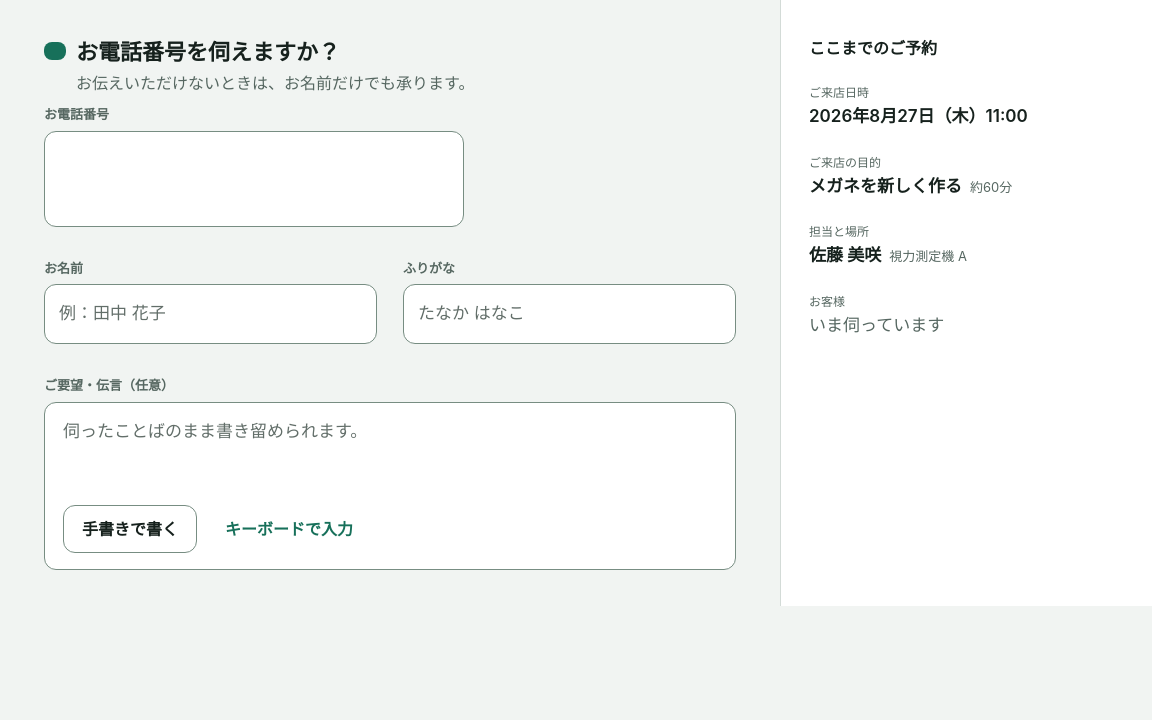
Test case: 手書き › 「手書きのまま残す」で、文字に変換しないままご要望が残る
The image size is (1152, 720).
Click the button "手書きで書く" at (130, 528), box [63,504,197,552]
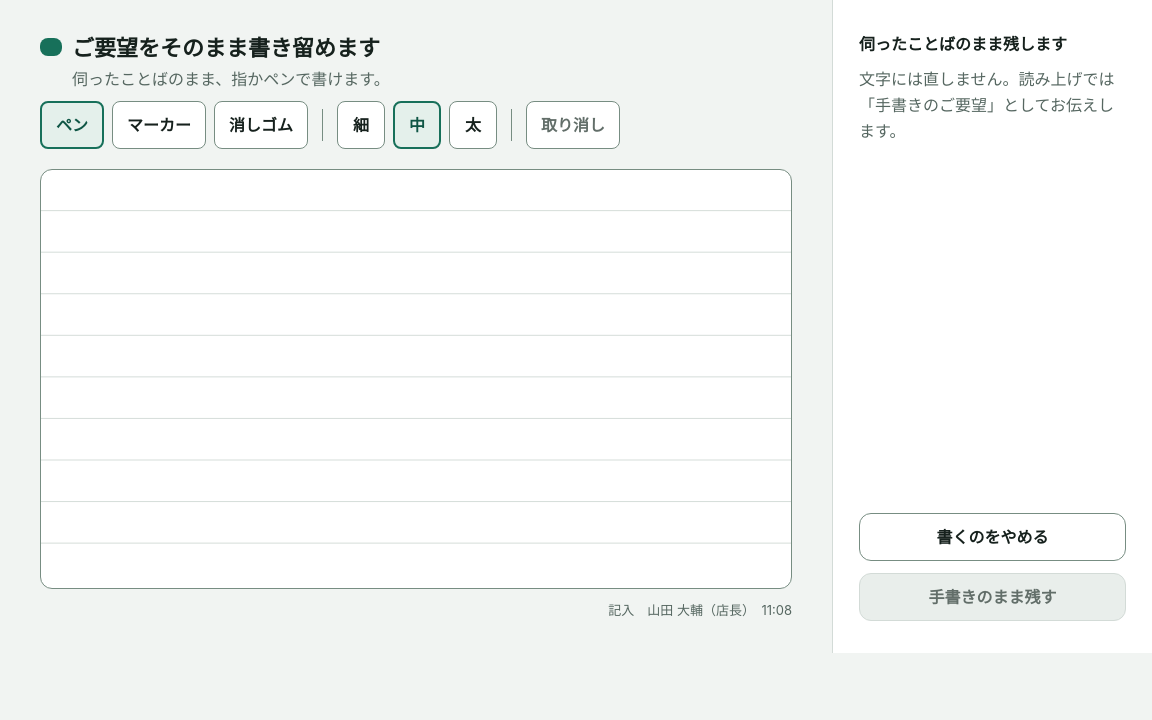
Press the mouse on the picture with test id "handwriting-paper" at (416, 379), box [40,169,792,589]
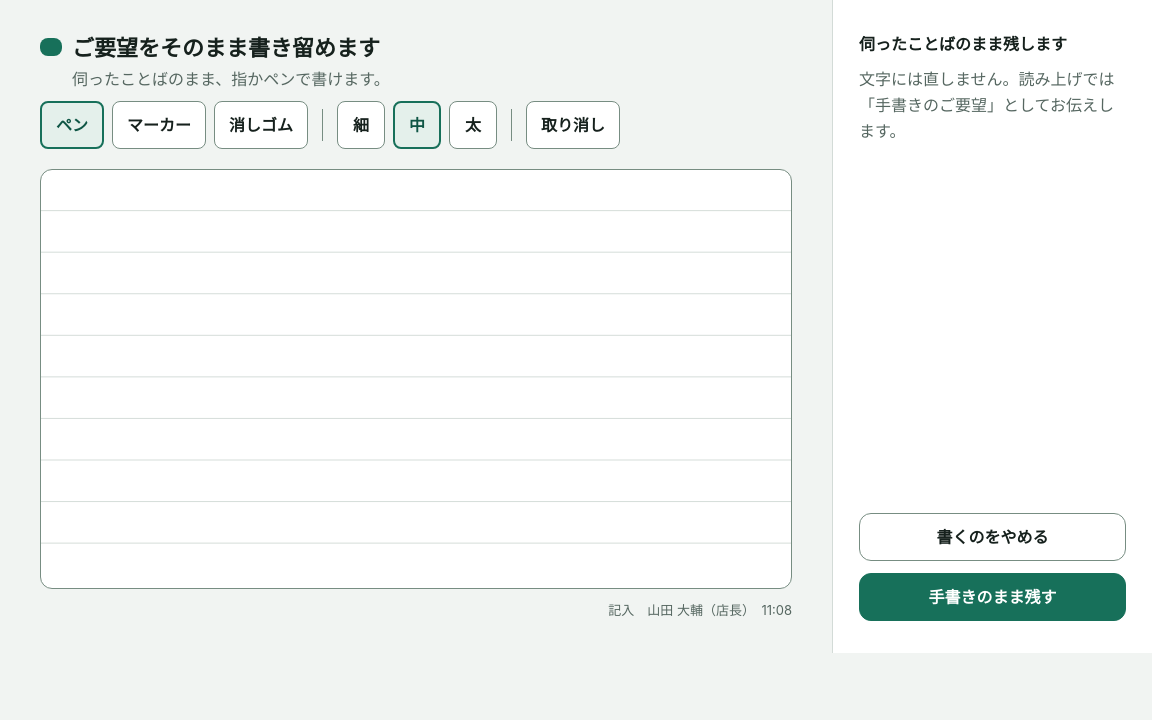
Click the button "手書きのまま残す" at (992, 596), box [859,572,1126,620]
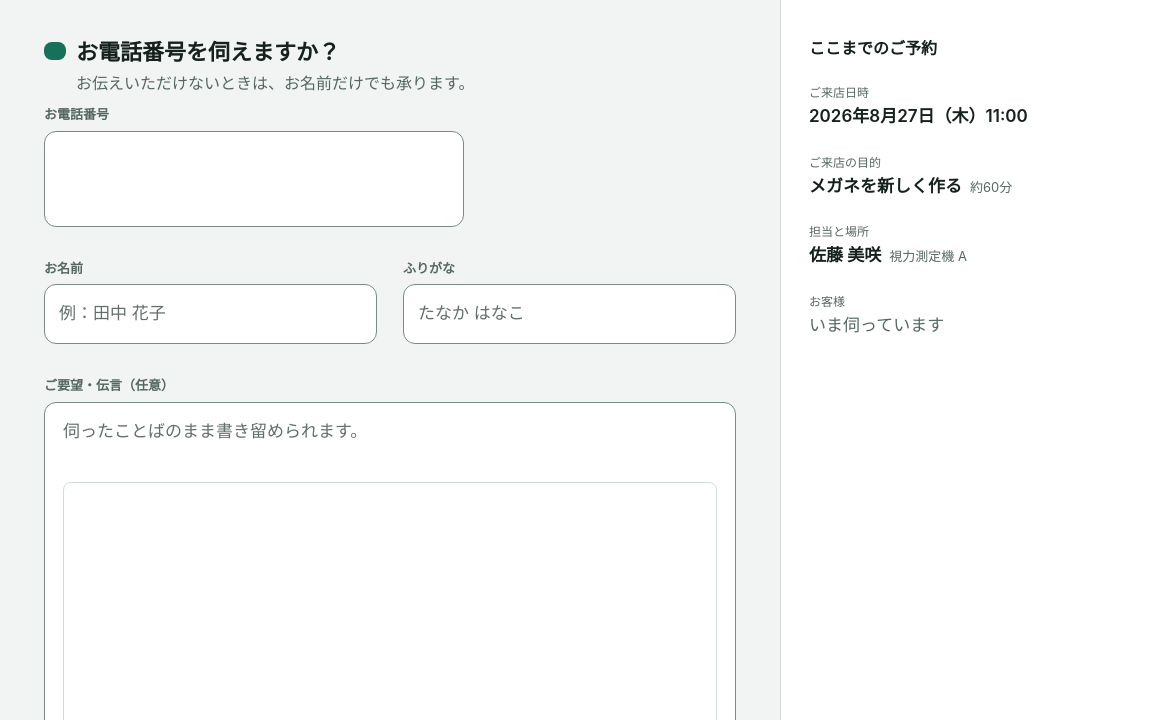
Now the picture with test id "handwriting-paper" is gone
Now the text box labelled "ご要望・伝言（任意）" is empty, box [63,418,717,470]
